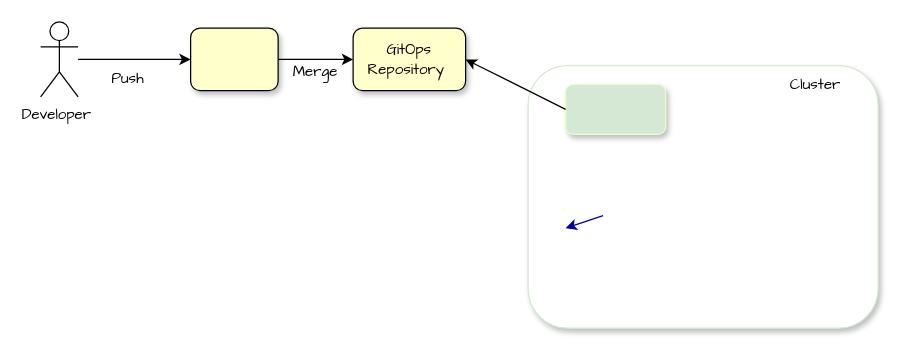
This 908x359 diagram has some shape labels left out. The shapes that lost their labels are listed below. From the top down, each one's centre as x and y in pixels, then its label:
At (235,60): "PR".
At (616,110): "ArgoCD".
